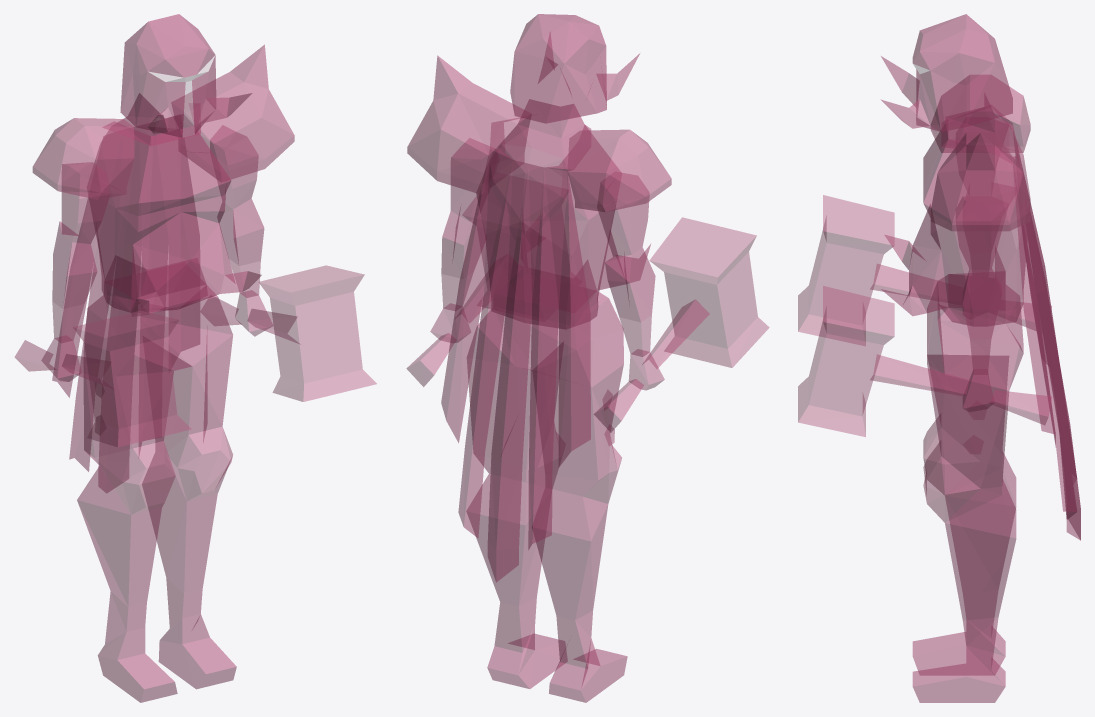
The model's file is torag.gltf.
The picture shows the model from 3 angles, left to right: view 1: azimuth 30°, elevation 25°; view 2: azimuth 150°, elevation 25°; view 3: azimuth 270°, elevation 25°; orthographic projection.
Bounding box in the file's own units: 84 × 203 × 79.
Materials: 1 (1 with a texture image).
